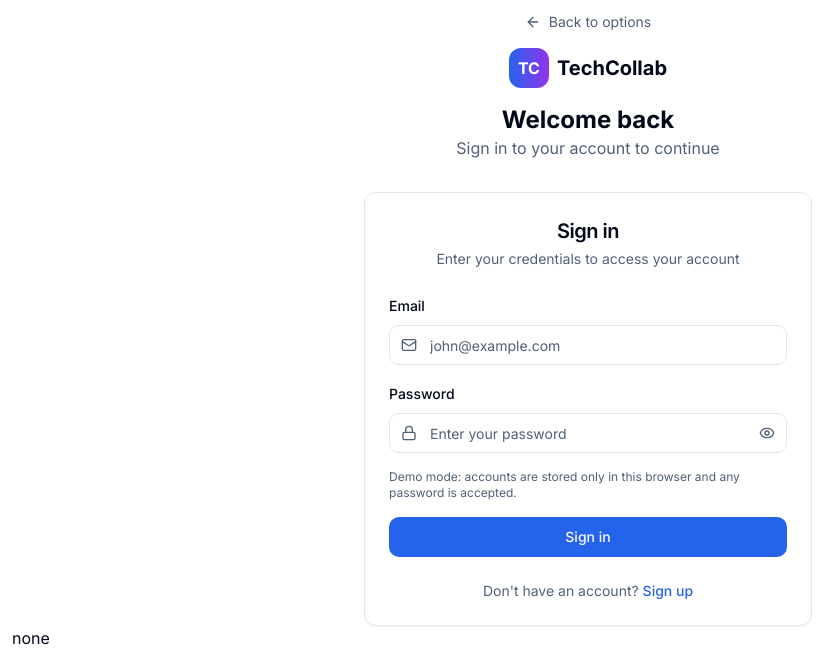
Test: SignInPage › signs in, persists the session and honours a safe ?next= redirect
This screenshot has width=829, height=665.
Type "jane.doe@example.com" into the field labelled "Email" at (588, 345), box [389,325,787,365]
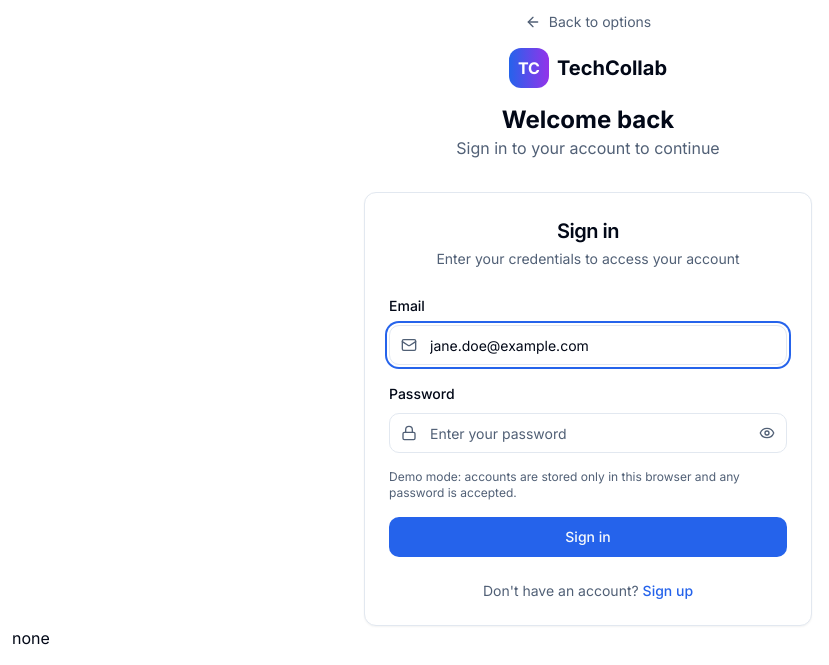
Type "secret" into the password field labelled "Password" at (588, 433), box [389,413,787,453]
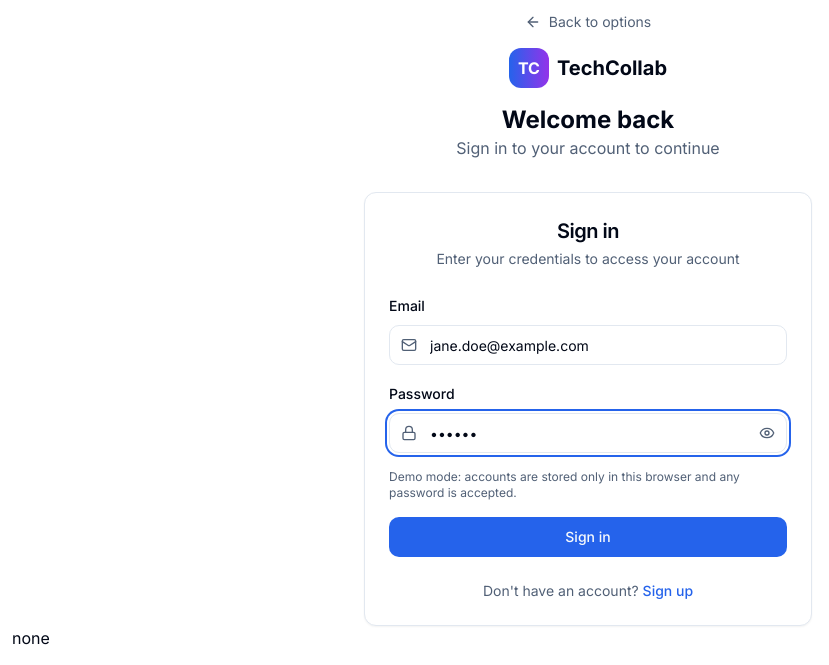
Click the button "Sign in" at (588, 537), box [389,517,787,557]
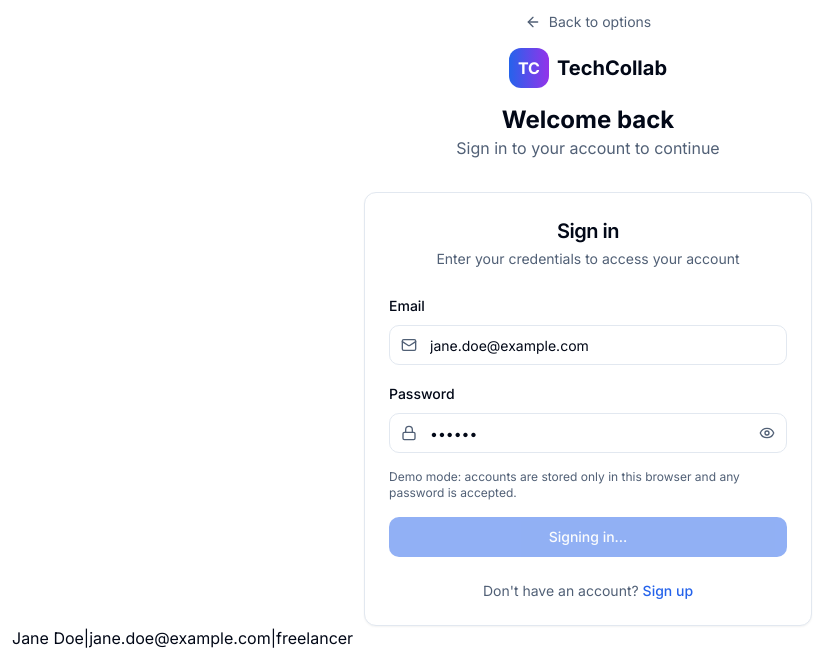
Result: the text with test id "current-user" reads "Jane Doe|jane.doe@example.com|freelancer" at [12,628,353,648]
